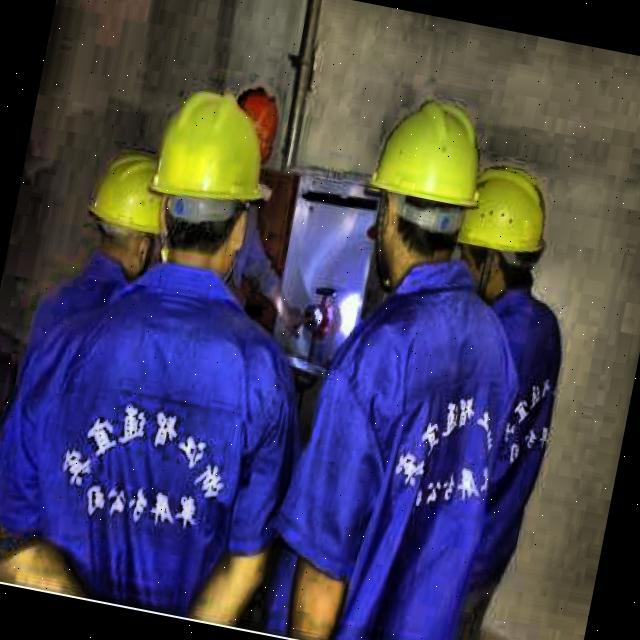helmet: (134, 77, 292, 283), (345, 88, 495, 292), (440, 152, 560, 316), (76, 143, 184, 279)
